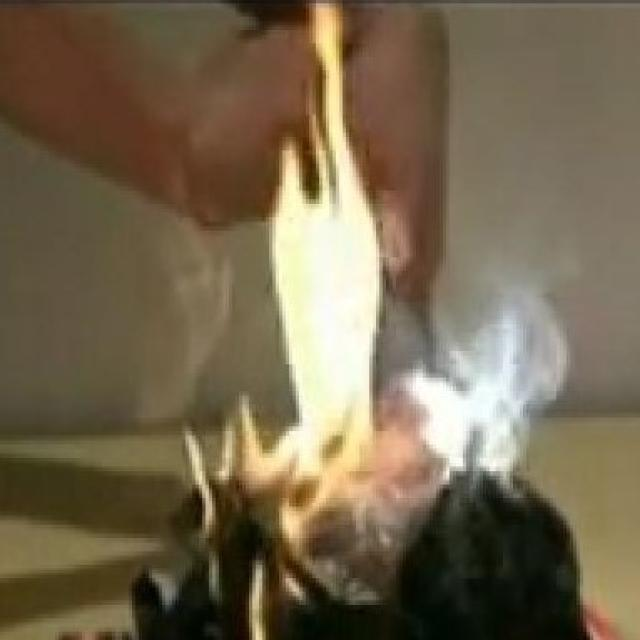Fire: (276, 0, 416, 510)
